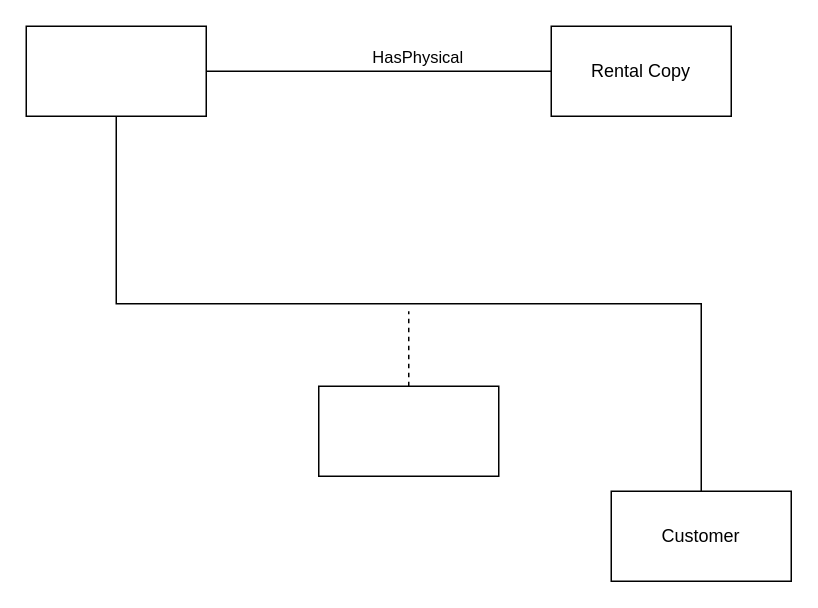
Some shapes in this 818 by 608 pixel diagram are drawn without their labels. Here are the shapes that lost their labels. From the top down, the centre of each, then its label:
At point (115, 70): "Movie".
At point (408, 430): "Retreive".
